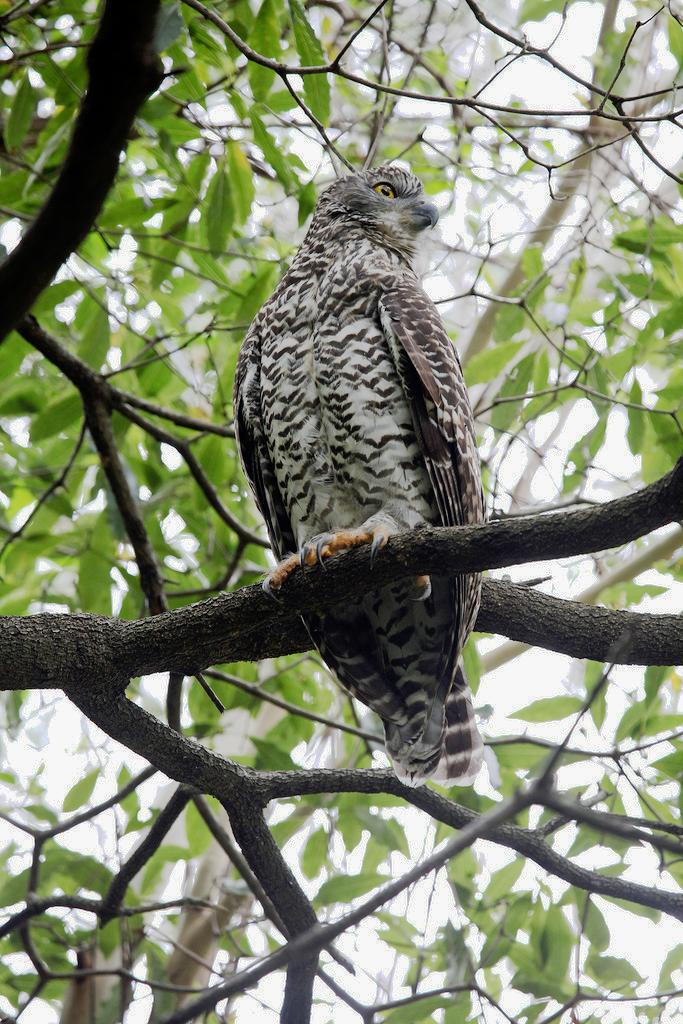Owl: (229, 168, 496, 790)
